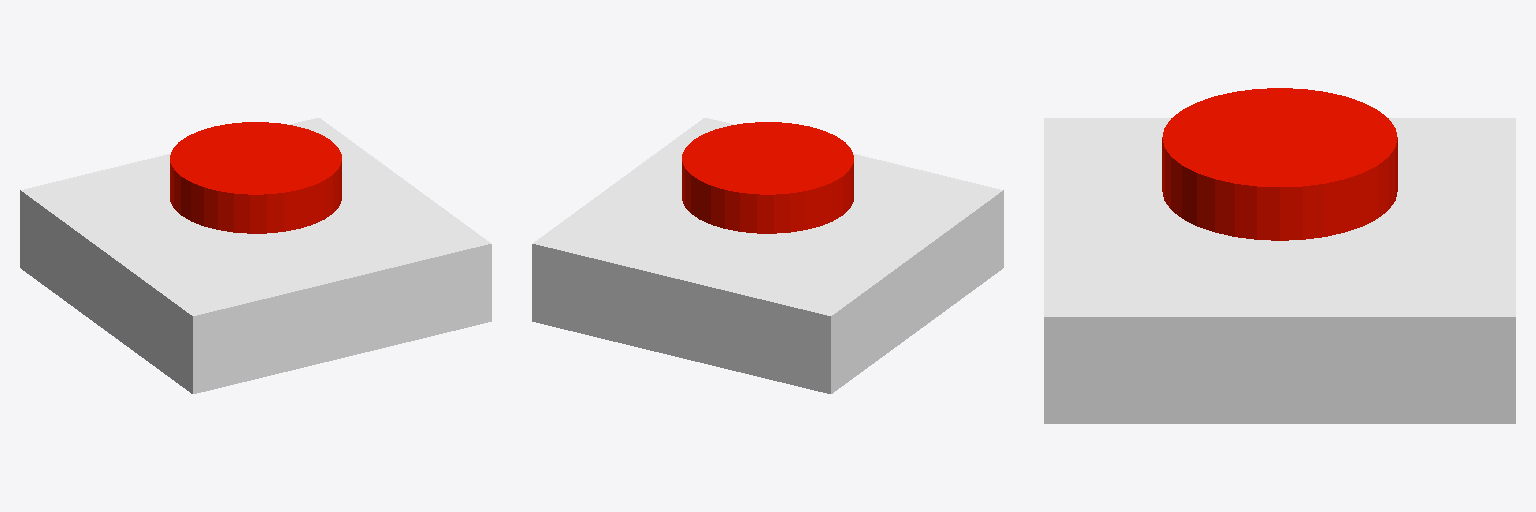
URDF robot description (button.urdf):
<?xml version="0.0" ?>
<robot name="button.urdf">
  <material name="mainColor">
    <color rgba=".98 .1 0 1"/>
  </material>
  <material name="white">
    <color rgba="1. 1. 1. 1."/>
  </material>

  <link name="world"/>

  <link name="base">
    <contact>
      <rolling_friction value="10.0"/>
      <lateral_friction value="10.0"/>
      <spinning_friction value="10.0"/>
    </contact>
    <inertial>
      <origin rpy="0 0 0" xyz="0.0 0.0 -.1"/>
       <mass value="0.1"/>
       <inertia ixx="1" ixy="0" ixz="0" iyy="1" iyz="0" izz="1"/>
    </inertial>
    <visual>
      <origin rpy="0 0 0" xyz="0 0 -.1"/>
      <geometry>
        <box size=".4 .4 .1"/>
      </geometry>
      <material name="white"/>
    </visual>
    <collision>
      <!--Bottom --> 
      <origin rpy="0 0 0" xyz="0 0 -.1"/>
      <geometry>
        <box size=".4 .4 .1"/>
      </geometry>
    </collision>
  </link>

  <link name="button">
    <contact>
      <rolling_friction value="1000.0"/>
      <lateral_friction value="1000.0"/>
      <spinning_friction value="1000.0"/>
      <contact_cfm value="0.0"/>
      <contact_erp value="1.0"/>
    </contact>
    <inertial>
      <origin rpy="0 0 0" xyz="0 0 0"/>
      <cylinder radius="0.1" length="0.05"/>
      <mass value=".1"/>
      <inertia ixx="1" ixy="0" ixz="0" iyy="1" iyz="0" izz="1"/>
    </inertial>
    <visual>
      <origin rpy="0 0 0" xyz="0 0 0"/>
      <geometry>
        <cylinder radius="0.1" length="0.05"/>
      </geometry>
      <material name="mainColor"/>
    </visual>
    <collision>
      <origin rpy="0 0 0" xyz="0 0 0"/>
      <geometry>
        <cylinder radius="0.1" length="0.05"/>
      </geometry>
    </collision>
  </link>

  <joint name="base_joint" type="fixed">
    <origin rpy="0 0 0" xyz="0 0 0"/>
    <parent link="world"/>
    <child link="base"/>
  </joint>

  <joint name="base_button_joint" type="prismatic">
    <origin rpy="0 0 0" xyz="0 0 0"/>
    <axis rpy="0 0 0" xyz="0 0 1"/>
    <parent link="base"/>
    <child link="button"/>
    <limit effort="100" lower="-0.05" upper="0.05" velocity="100"/>
  </joint>

</robot>

--- Render facts (derived) ---
Views: 3 orthographic renders of the robot side by side, from view 1: azimuth 30°, elevation 25°; view 2: azimuth 150°, elevation 25°; view 3: azimuth 270°, elevation 25°.
Robot: button.urdf — 3 links, 2 joints (1 prismatic, 1 fixed); root link world; default pose: all joints at 0.
Visible links, largest first — view 1: base, button; view 2: base, button; view 3: base, button.
Link boxes in pixels (x1,y1,x2,y2): base: [20, 118, 491, 393]; button: [170, 122, 341, 233]; base: [532, 118, 1003, 393]; button: [682, 122, 853, 233]; base: [1044, 118, 1515, 423]; button: [1162, 88, 1397, 240].
Bounding box of the posed robot: 0.4 × 0.4 × 0.175 m (x, y, z).
Geometry: primitives only (box / cylinder / sphere), no mesh files.